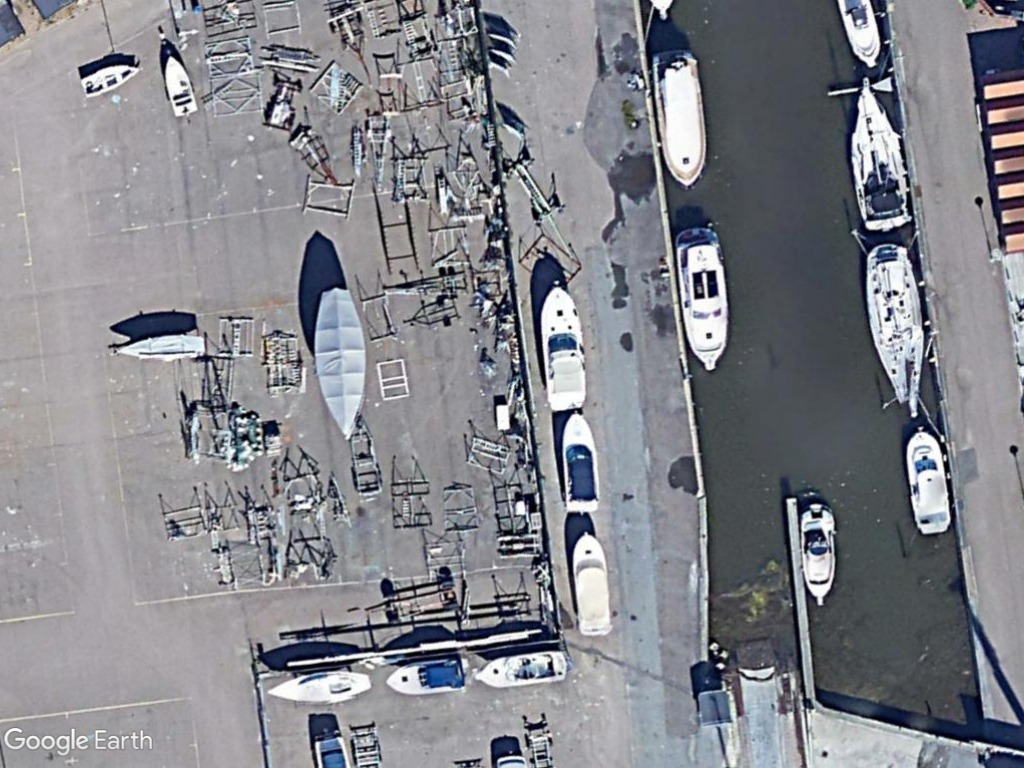boat: (841, 71, 919, 236), (864, 238, 927, 423), (671, 223, 732, 375), (649, 44, 712, 191), (313, 284, 370, 442), (536, 280, 592, 420), (899, 423, 952, 538), (568, 529, 615, 641), (796, 500, 840, 610), (559, 409, 602, 520), (263, 665, 373, 708), (470, 649, 569, 692), (384, 652, 468, 701), (107, 329, 208, 366), (76, 59, 142, 101), (161, 52, 201, 120)
